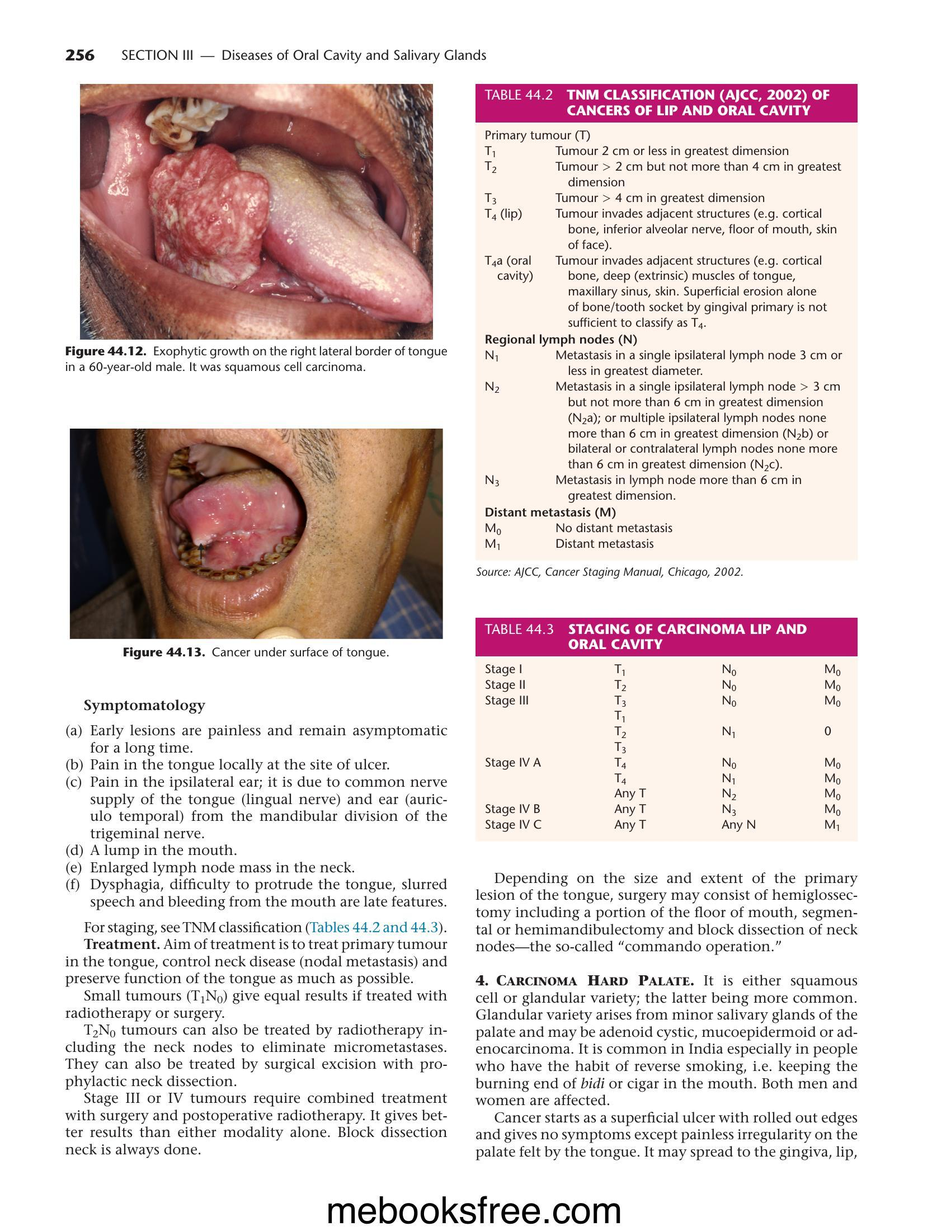caption: (65, 345, 449, 375), (484, 88, 830, 117), (484, 623, 809, 650), (123, 646, 390, 660)
header: (121, 49, 487, 64)
image: (80, 83, 433, 340), (69, 428, 443, 639)
list: (65, 723, 462, 911)
sub-section-heading: (84, 699, 206, 715)
table: (476, 122, 857, 580), (476, 656, 858, 842)
text: (64, 921, 448, 1159), (474, 973, 858, 1162), (475, 871, 859, 956)
